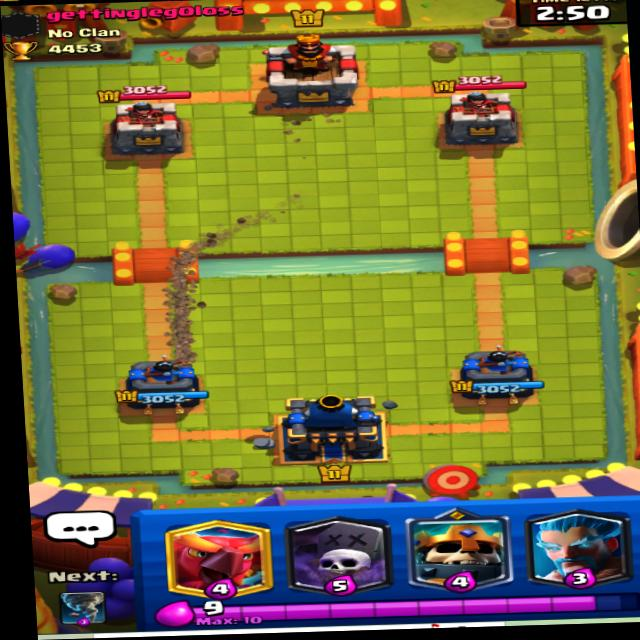Trail: (149, 235, 203, 357)
